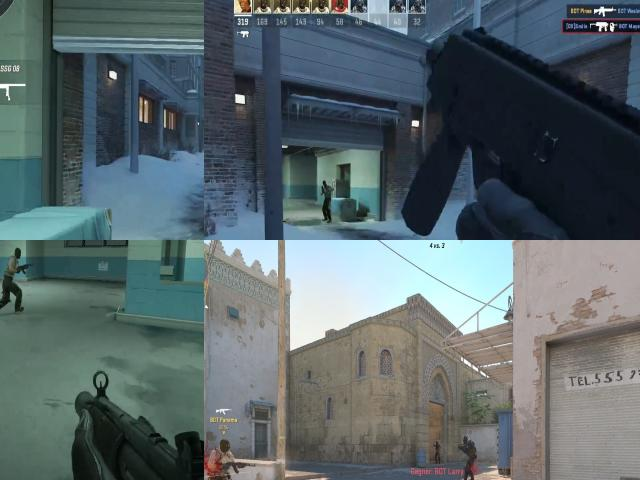CT: (461, 435, 476, 480), (435, 440, 441, 462)
CT-Head: (463, 436, 471, 445), (435, 440, 440, 446)
T: (204, 435, 242, 480), (4, 256, 20, 289), (321, 178, 332, 206)
T-Head: (215, 436, 233, 458), (12, 244, 24, 262), (322, 178, 329, 186)
